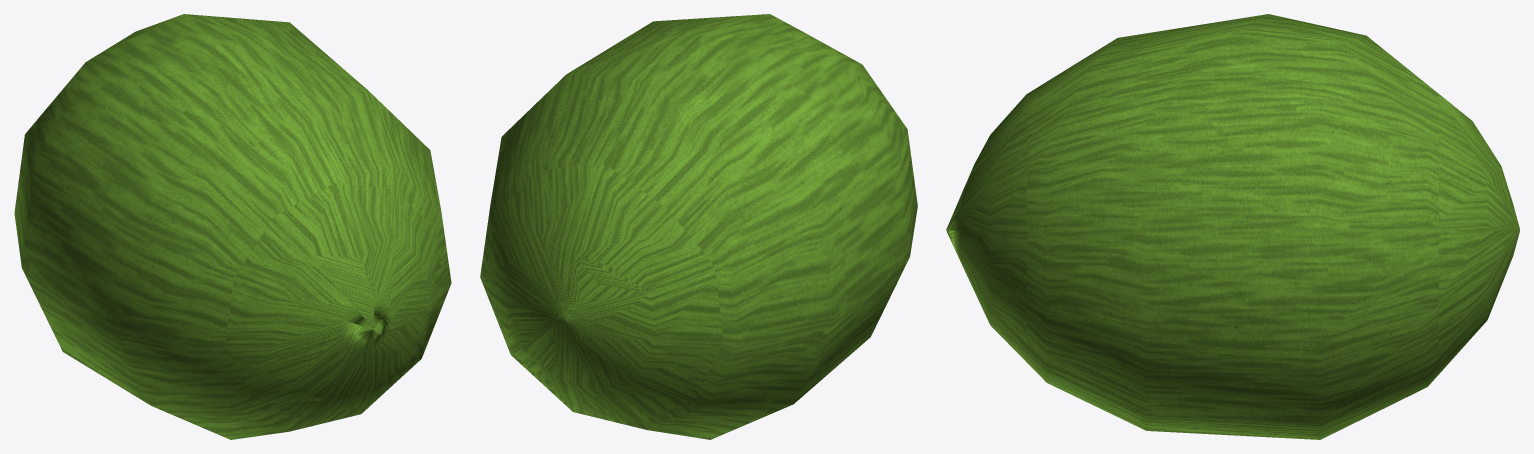
File: CoconutGreen.DAE
3 renders of one model, left to right at view 1: azimuth 30°, elevation 25°; view 2: azimuth 150°, elevation 25°; view 3: azimuth 270°, elevation 25°, orthographic. The views are drawn at different scales.
Parts seen in each view (by area): view 1: coconutGreen100, coconutGreen50; view 2: coconutGreen100, coconutGreen50; view 3: coconutGreen100, coconutGreen50.
Boxes of the visible parts, box(x1,y1,x2,y2) form: coconutGreen100: box(14, 14, 451, 439); coconutGreen50: box(200, 255, 450, 405); coconutGreen100: box(480, 14, 917, 439); coconutGreen50: box(494, 254, 737, 429); coconutGreen100: box(946, 14, 1519, 439); coconutGreen50: box(946, 167, 1512, 372).
Size of the model in its own units: 13.74 by 18.77 by 13.78.
